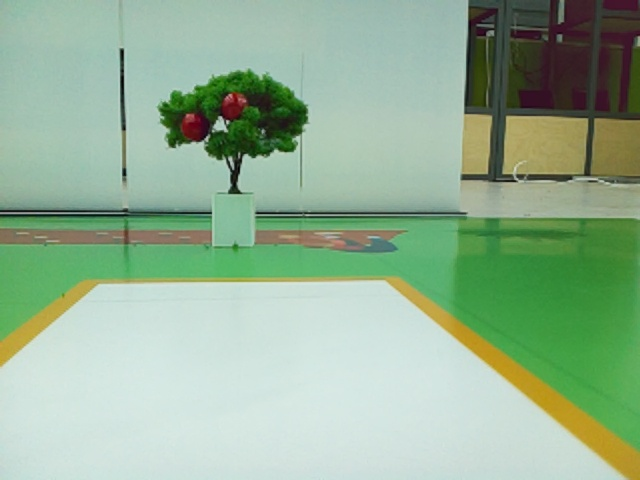apple: (222, 94, 248, 118), (181, 113, 201, 140)
